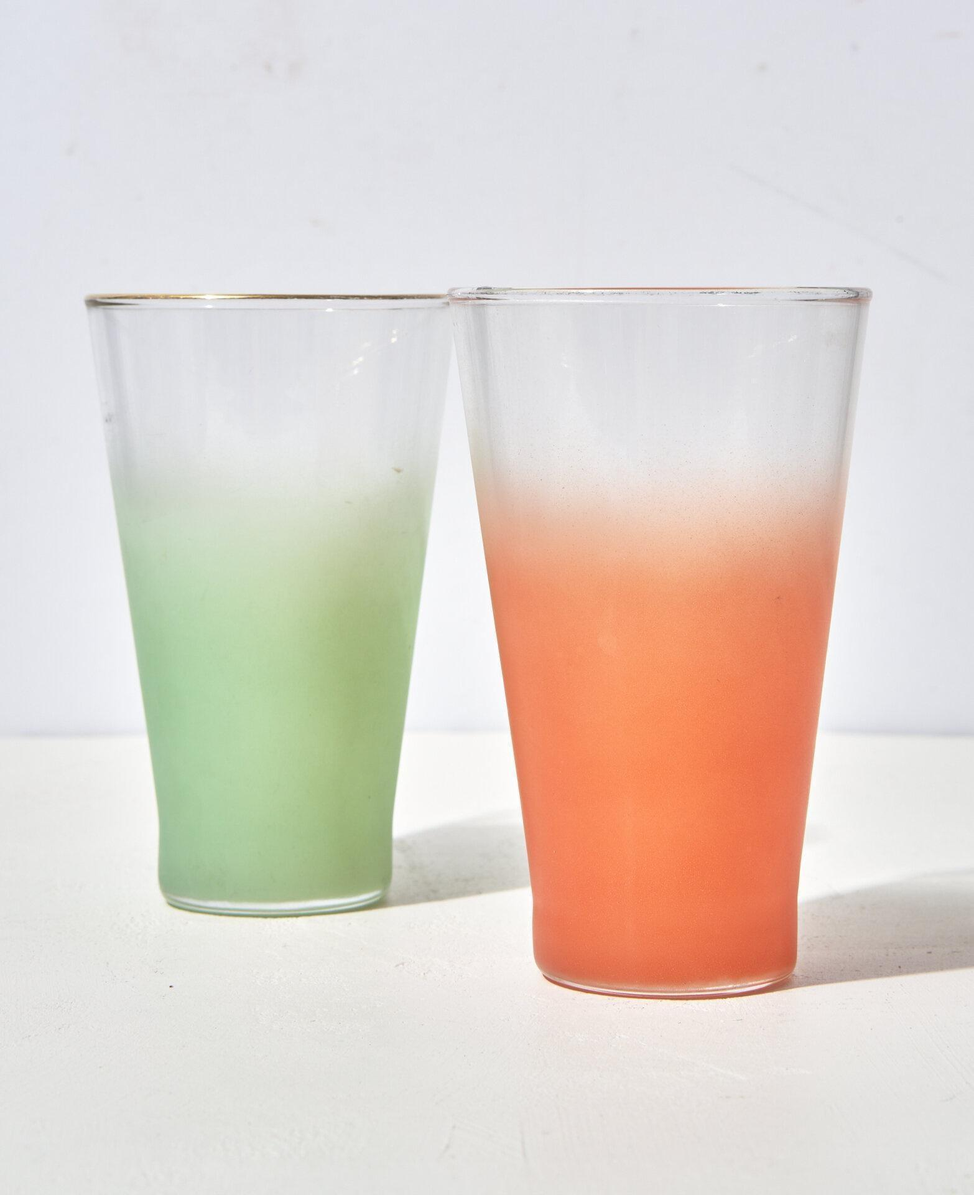glass-normal: (444, 273, 870, 1001), (79, 278, 465, 929)
